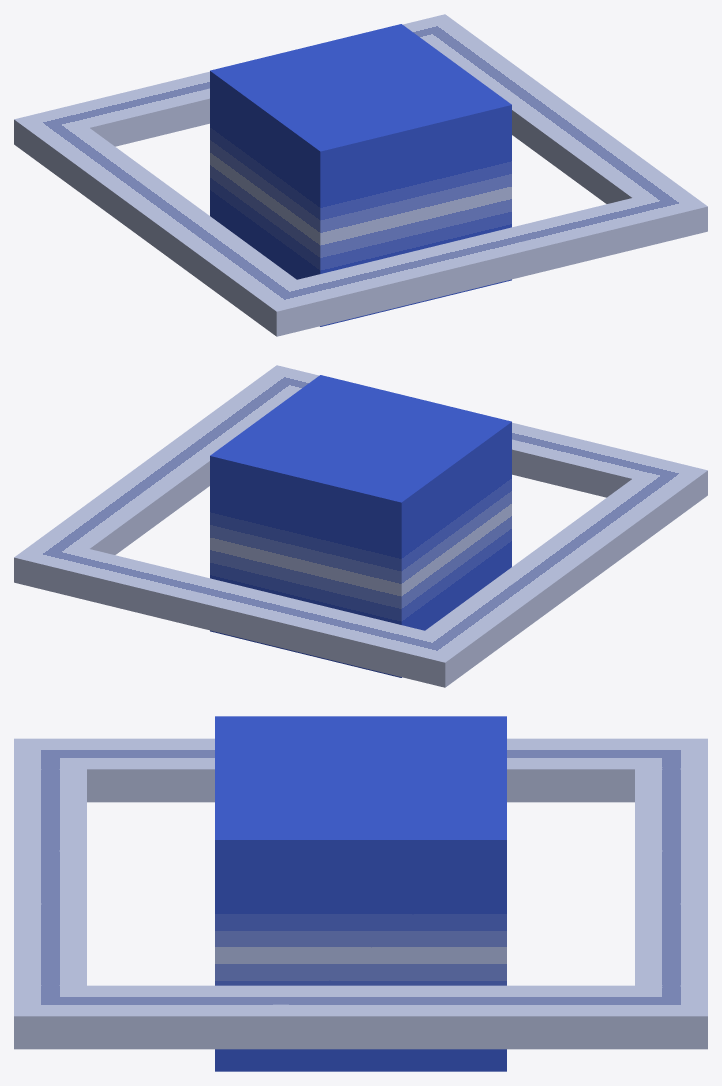
The model's file is planet_blue.gltf.
The picture shows the model from 3 angles, top to bottom: view 1: azimuth 30°, elevation 25°; view 2: azimuth 150°, elevation 25°; view 3: azimuth 270°, elevation 25°; orthographic projection. The views are drawn at different scales.
Visible parts, largest first — view 1: mesh (×5); view 2: mesh (×5); view 3: mesh (×5).
Boxes of the visible parts, box(x1,y1,x2,y2) form: mesh (×5): box(14, 14, 707, 336); mesh (×5): box(14, 365, 707, 687); mesh (×5): box(14, 716, 707, 1071).
Size of the model in its own units: 2.25 by 0.875 by 2.38.
Materials: 1 (1 with a texture image).
